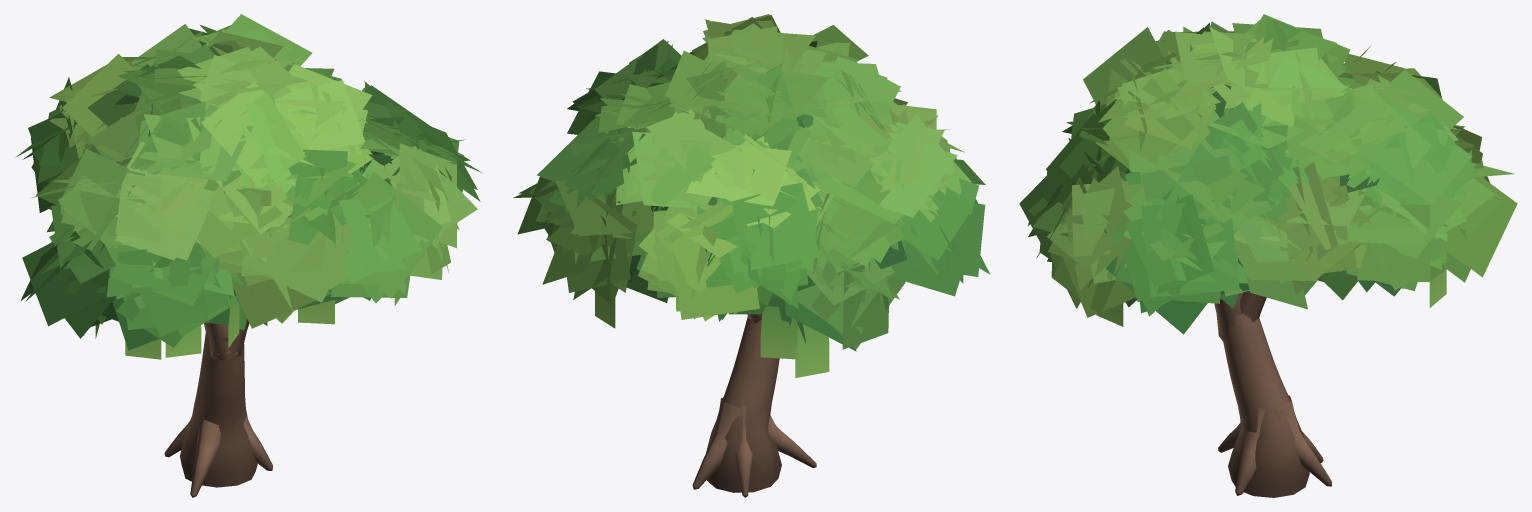
The model's file is tree-village-round-v1.glb.
3 views of the same model, side by side, from view 1: azimuth 30°, elevation 25°; view 2: azimuth 150°, elevation 25°; view 3: azimuth 270°, elevation 25° (orthographic). The views are drawn at different scales.
Parts seen in each view (by area): view 1: cards_round, bark; view 2: cards_round, bark; view 3: cards_round, bark.
Boxes of the visible parts, x1=… form: cards_round: x1=15, y1=14, x2=481, y2=359; bark: x1=164, y1=319, x2=272, y2=497; cards_round: x1=513, y1=14, x2=990, y2=377; bark: x1=692, y1=313, x2=816, y2=497; cards_round: x1=1019, y1=14, x2=1517, y2=334; bark: x1=1214, y1=291, x2=1331, y2=497.
Size of the model in its own units: 5.79 by 5.69 by 5.67.
